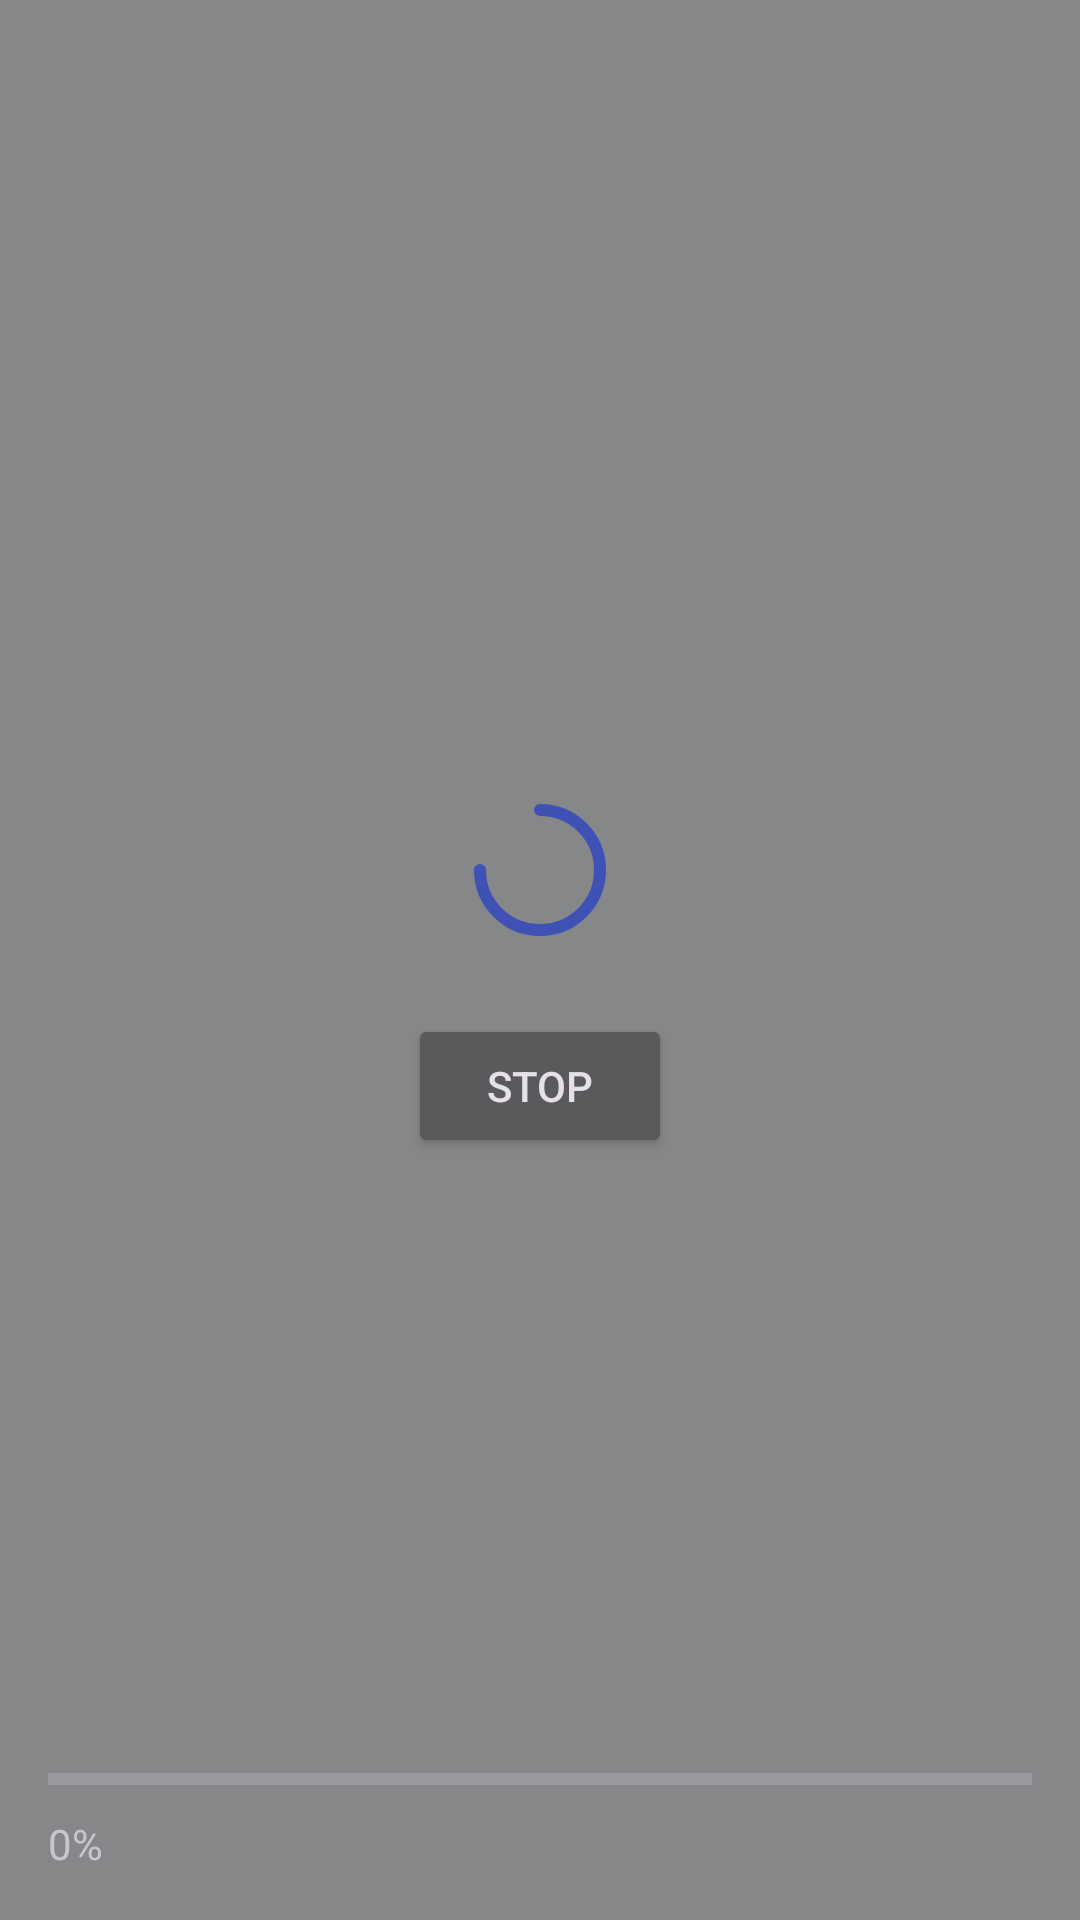

Point at icon controls on the screen. Image size 1080*1920, points as (x=x, y=y).
loader: (x=540, y=870)
